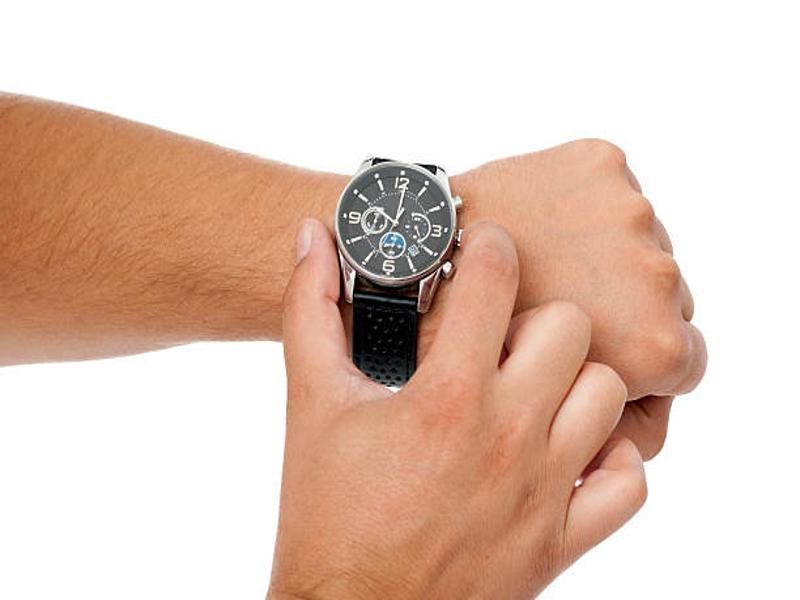watch: (332, 153, 465, 390)
